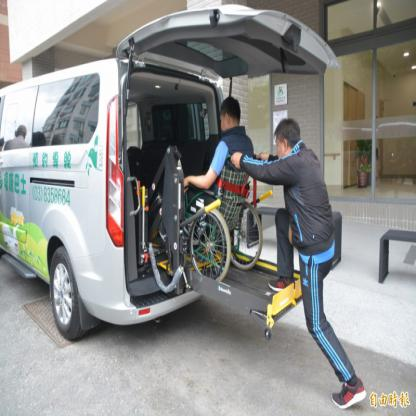wheelchair: (173, 95, 265, 283)
